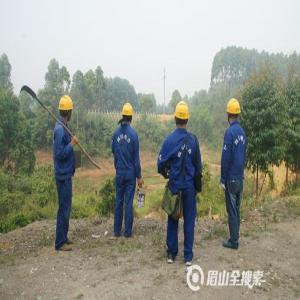yellow: (174, 102, 192, 130), (58, 95, 74, 123), (225, 98, 241, 126), (122, 102, 134, 126)
